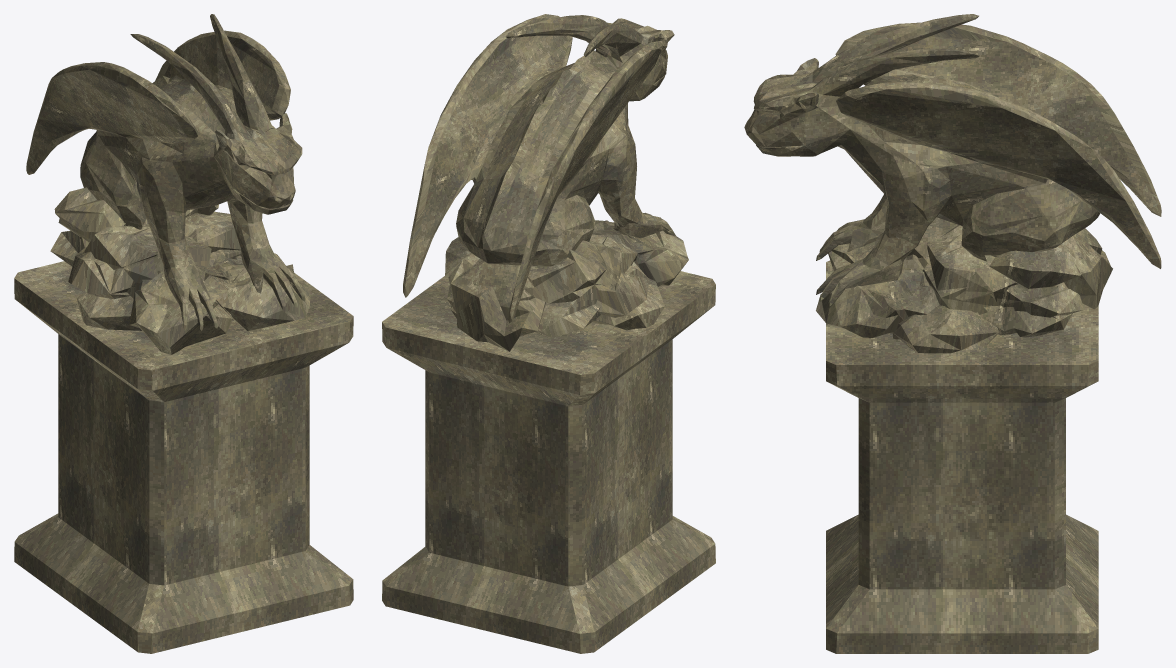
The model's file is C4SMGARGOYLE.obj.
3 renders of one model, left to right at view 1: azimuth 30°, elevation 25°; view 2: azimuth 150°, elevation 25°; view 3: azimuth 270°, elevation 25°, orthographic. The views are drawn at different scales.
Parts seen in each view (by area): view 1: Node 0, Node 13, Node 12, Node 7, Node 5, Node 4, Node 8, Node 11, Node 14, Node 10, Node 9; view 2: Node 0, Node 13, Node 9, Node 12, Node 7, Node 14, Node 5, Node 11, Node 8, Node 15; view 3: Node 0, Node 13, Node 12, Node 10, Node 4, Node 6, Node 11, Node 15, Node 9, Node 8.
Part boxes in pixels (x1,y1,x2,y2): Node 0: [14, 131, 353, 653]; Node 13: [80, 30, 305, 330]; Node 12: [26, 62, 198, 174]; Node 7: [68, 224, 186, 299]; Node 5: [129, 290, 232, 354]; Node 4: [216, 264, 310, 331]; Node 8: [76, 236, 211, 330]; Node 11: [210, 14, 276, 133]; Node 14: [54, 187, 148, 242]; Node 10: [184, 211, 240, 252]; Node 9: [50, 230, 89, 266]; Node 0: [382, 220, 715, 653]; Node 13: [403, 14, 675, 297]; Node 9: [448, 259, 600, 351]; Node 12: [508, 41, 663, 323]; Node 7: [589, 229, 649, 317]; Node 14: [524, 240, 607, 303]; Node 5: [638, 230, 688, 286]; Node 11: [505, 15, 609, 55]; Node 8: [592, 220, 664, 330]; Node 15: [445, 237, 479, 284]; Node 0: [826, 176, 1151, 653]; Node 13: [744, 14, 1161, 307]; Node 12: [835, 22, 1161, 216]; Node 10: [927, 233, 1084, 317]; Node 4: [816, 279, 909, 337]; Node 6: [893, 305, 998, 353]; Node 11: [806, 48, 979, 106]; Node 15: [984, 243, 1089, 288]; Node 9: [1062, 228, 1112, 309]; Node 8: [907, 225, 951, 268].
Bounding box in the file's own units: 7.02 × 17.26 × 11.55.
Materials: 13 (13 with a texture image).
